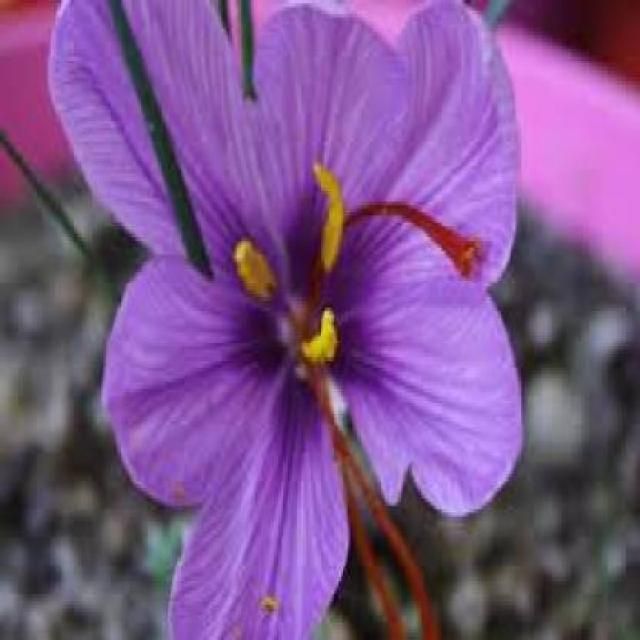Flower: (47, 0, 526, 632)
stigma: (317, 363, 440, 640), (302, 196, 489, 338), (341, 472, 413, 638)
